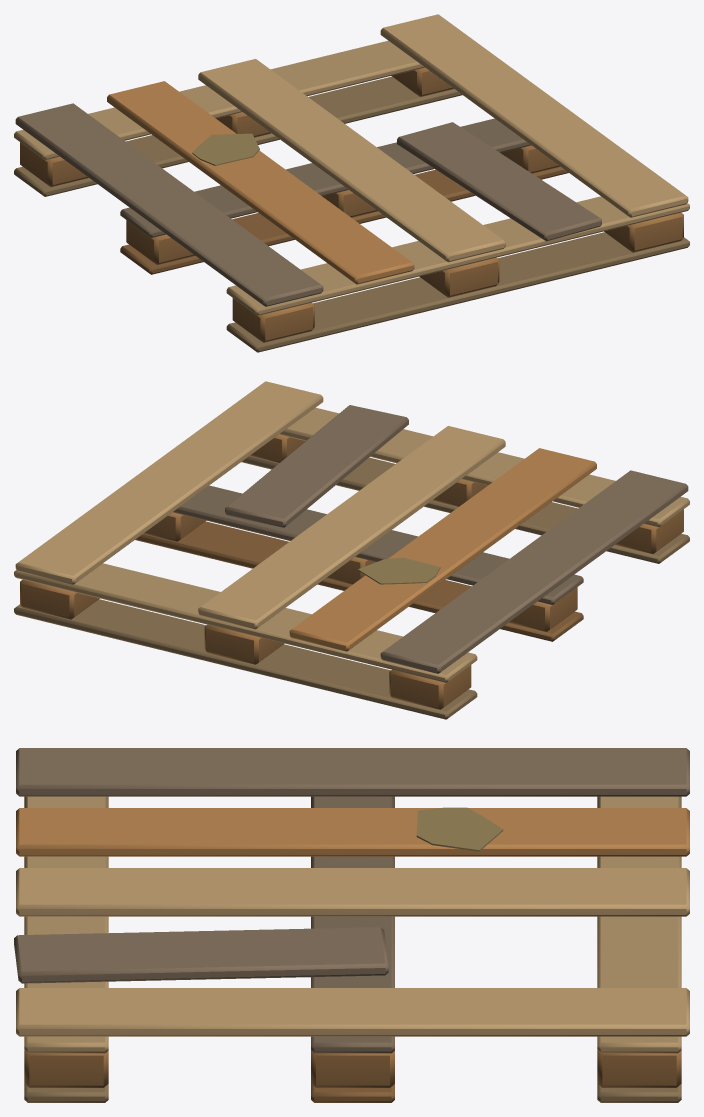
File: 41_palette.fbx
3 views of the same model, one above another, from view 1: azimuth 30°, elevation 25°; view 2: azimuth 150°, elevation 25°; view 3: azimuth 270°, elevation 25° (orthographic). The views are drawn at different scales.
Visible parts, largest first — view 1: Palette; view 2: Palette; view 3: Palette.
Part boxes in pixels (left/top/right/bottom): Palette: left=14, top=14, right=689, bottom=352; Palette: left=14, top=381, right=689, bottom=719; Palette: left=14, top=748, right=689, bottom=1102.
Size of the model in its own units: 1.12 by 0.14 by 1.12.
Materials: 1 (1 with a texture image).
